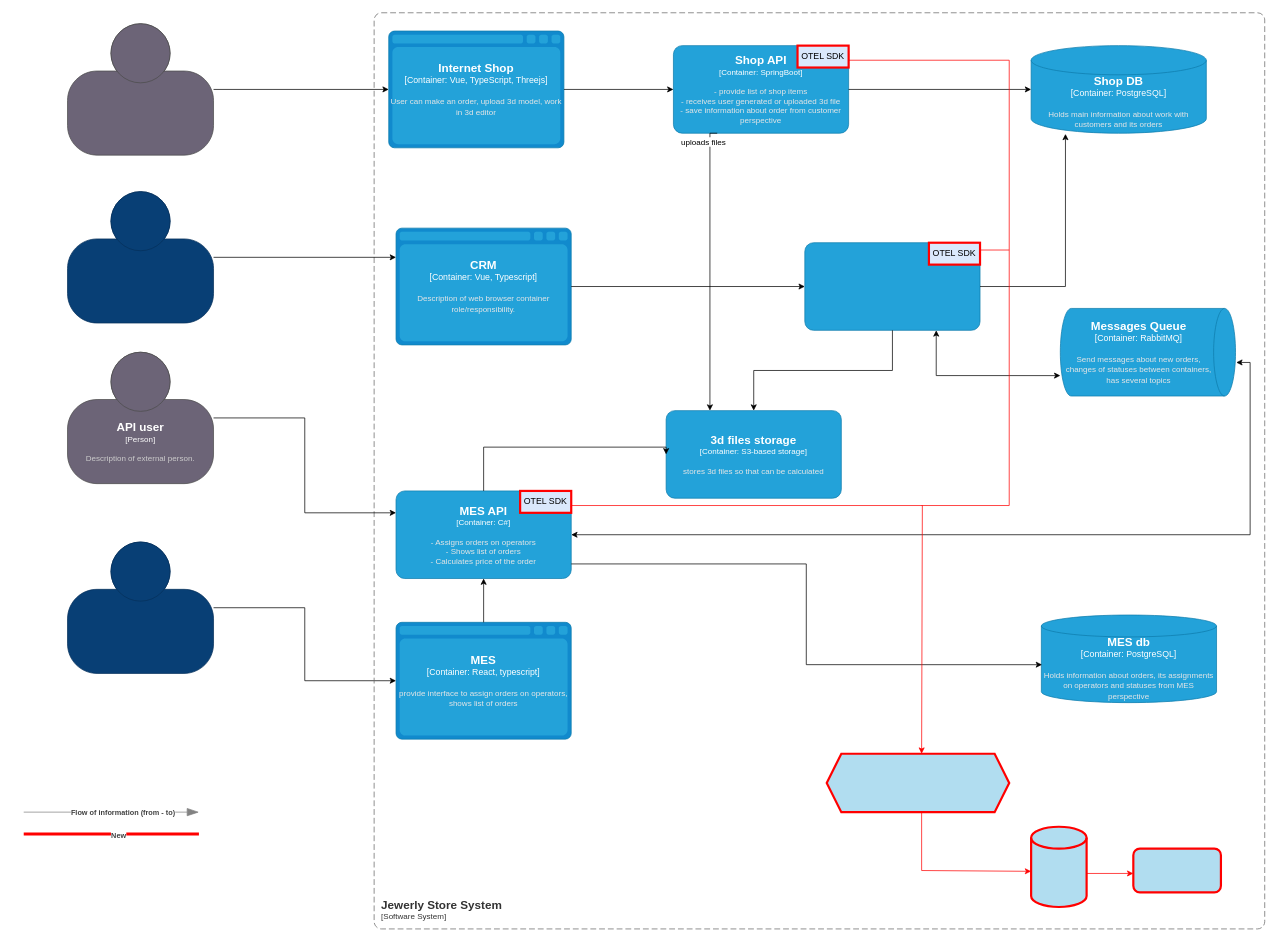
This 1278x942 diagram has some shape labels left out. The shapes that lost their labels are listed below. From the top down, each one's box as (x1, y1, x2, y2) in pixels, then its label:
(67, 23, 214, 155): Customer [Person] Description of external person.
(67, 191, 214, 323): Seller [Person] Operates with order, confirms manufacturing for the user
(804, 242, 980, 330): CRM API [Container: SpringBoot] Description of container role/responsibility.
(67, 541, 214, 673): Operator [Person] Takes order in work, manufactures jewerly
(825, 752, 1010, 813): OpenTelemetry Collector
(1030, 825, 1087, 908): Jaeger
(1132, 847, 1222, 893): Jaeger UI
